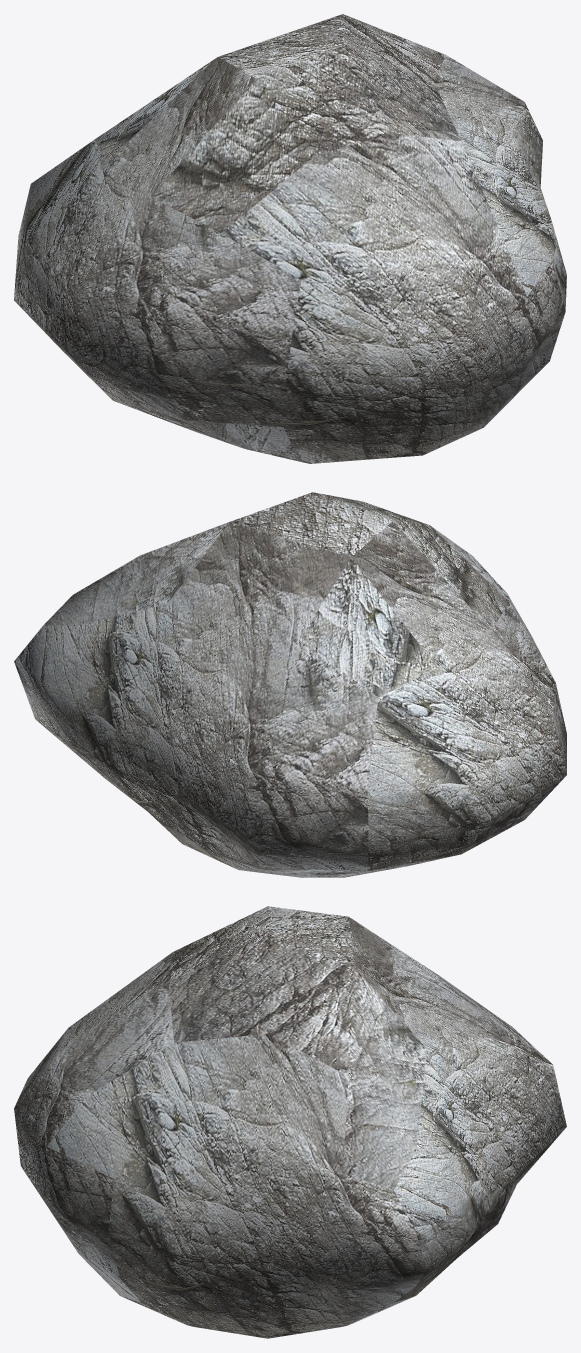
Rendered from ColladaTest.dae.
The picture shows the model from 3 angles, top to bottom: view 1: azimuth 30°, elevation 25°; view 2: azimuth 150°, elevation 25°; view 3: azimuth 270°, elevation 25°; orthographic projection. The views are drawn at different scales.
Parts seen in each view (by area): view 1: StoneStatic-Pivot; view 2: StoneStatic-Pivot; view 3: StoneStatic-Pivot.
Boxes of the visible parts, <box> form: StoneStatic-Pivot: <box>14,14,566,463</box>; StoneStatic-Pivot: <box>14,492,566,877</box>; StoneStatic-Pivot: <box>14,906,566,1338</box>.
Size of the model in its own units: 4.7 by 4.47 by 3.33.
Materials: 1 (1 with a texture image).
